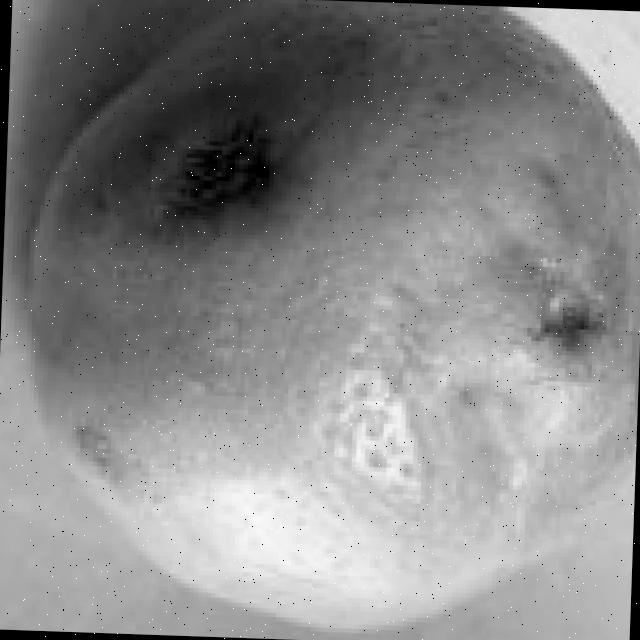Good_Orange-15-21 days: (20, 0, 640, 636)
